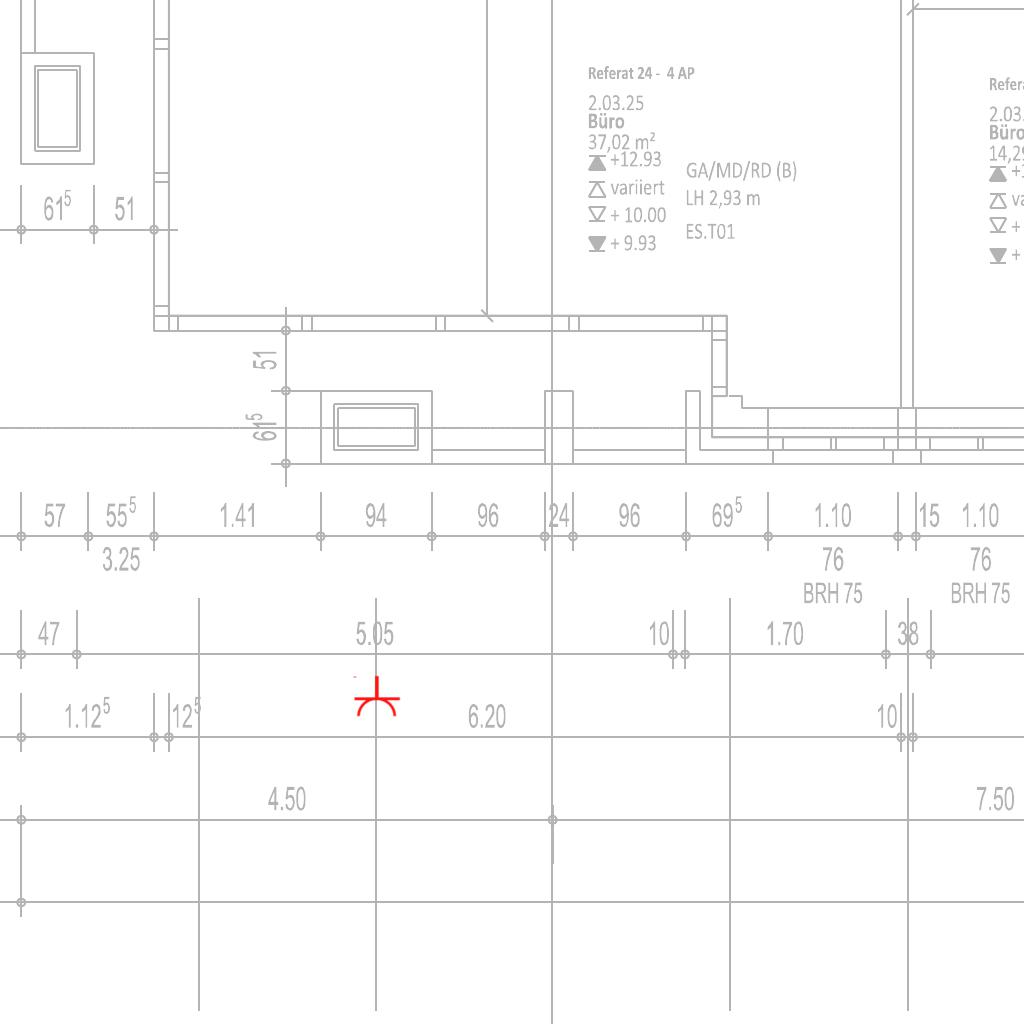Schukosteckdose_einfach: (351, 675, 401, 718)
